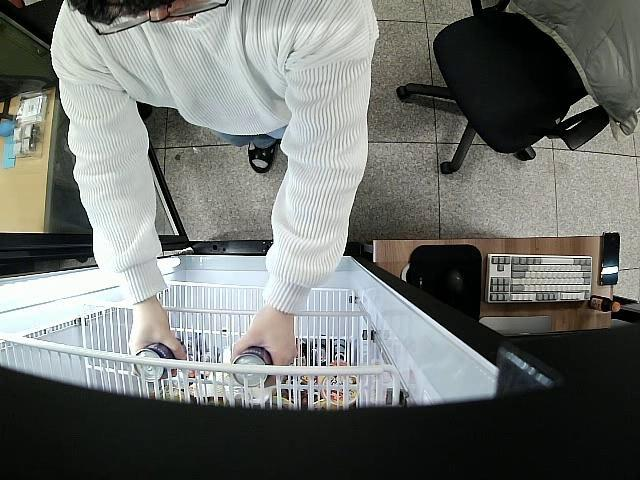16_hot6: (128, 342, 176, 384), (231, 345, 274, 386)
